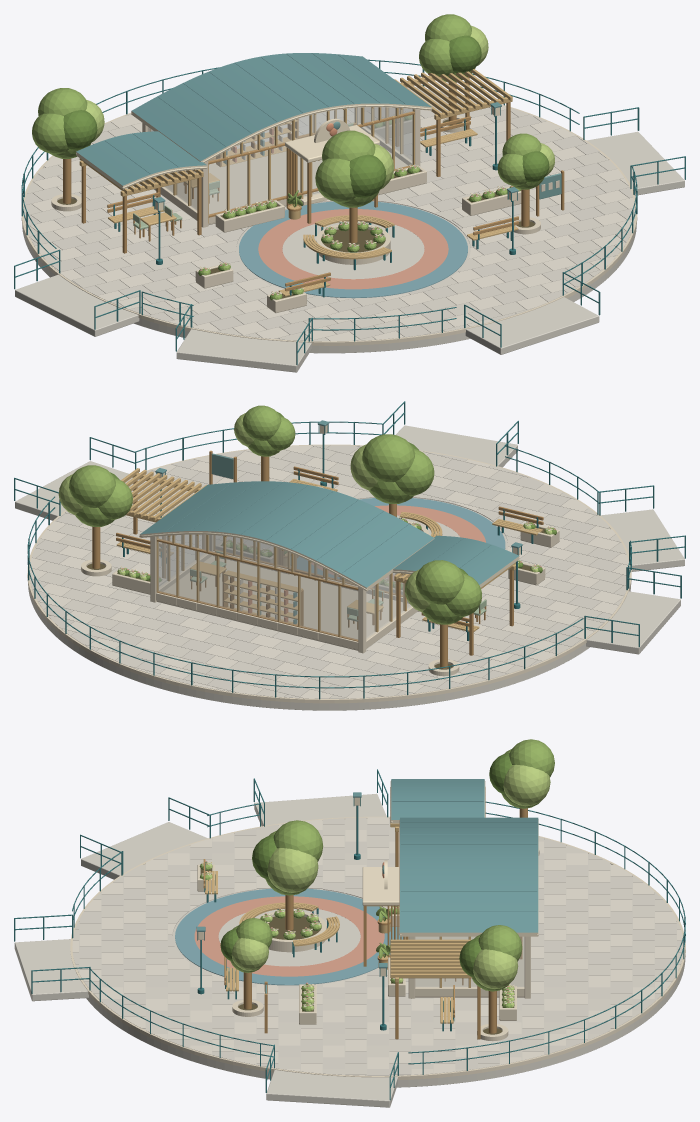
File: senior.glb
3 views of the same model, one above another, from view 1: azimuth 30°, elevation 25°; view 2: azimuth 150°, elevation 25°; view 3: azimuth 270°, elevation 25° (orthographic).
Visible parts, largest first — view 1: Site_Components__WarmLimestonePaver1, Site_Components__WarmLimestonePaver0, Site_Components__WarmLimestonePaver2, Site_Components__stone, CommunityLifeHall__roof, Landscape_Components__leaf, CommunityLifeHall__Clear warm architectural glazing, Site_Components__rail, Landscape_Components__cream, Landscape_Components__Muted blue court, Landscape_Components__Muted clay court, Landscape_Components__leafDark (+24 smaller); view 2: Site_Components__WarmLimestonePaver0, Site_Components__WarmLimestonePaver1, Site_Components__WarmLimestonePaver2, CommunityLifeHall__roof, Site_Components__stone, CommunityLifeHall__Clear warm architectural glazing, Landscape_Components__leaf, Site_Components__rail, CommunityLifeHall__floor, CommunityLifeHall__cream, Site_Components__cream, CommunityLifeHall__woodLight (+18 smaller); view 3: Site_Components__WarmLimestonePaver1, Site_Components__WarmLimestonePaver0, Site_Components__WarmLimestonePaver2, Site_Components__stone, CommunityLifeHall__roof, Landscape_Components__leafLight, Landscape_Components__leaf, Site_Components__rail, Landscape_Components__Muted clay court, Landscape_Components__Muted blue court, Site_Components__cream, WestRestGallery__roof (+16 smaller).
Part boxes in pixels (left/top/right/bottom): Site_Components__WarmLimestonePaver1: left=30, top=89, right=634, bottom=341; Site_Components__WarmLimestonePaver0: left=23, top=87, right=629, bottom=341; Site_Components__WarmLimestonePaver2: left=24, top=88, right=635, bottom=339; Site_Components__stone: left=15, top=131, right=684, bottom=372; CommunityLifeHall__roof: left=131, top=53, right=431, bottom=161; Landscape_Components__leaf: left=32, top=14, right=543, bottom=299; CommunityLifeHall__Clear warm architectural glazing: left=148, top=107, right=412, bottom=214; Site_Components__rail: left=14, top=59, right=685, bottom=365; Landscape_Components__cream: left=51, top=115, right=540, bottom=313; Landscape_Components__Muted blue court: left=239, top=201, right=467, bottom=298; Landscape_Components__Muted clay court: left=258, top=209, right=448, bottom=289; Landscape_Components__leafDark: left=63, top=35, right=549, bottom=300; Site_Components__WarmLimestonePaver0: left=31, top=445, right=626, bottom=698; Site_Components__WarmLimestonePaver1: left=29, top=445, right=629, bottom=698; Site_Components__WarmLimestonePaver2: left=30, top=445, right=626, bottom=698; CommunityLifeHall__roof: left=140, top=481, right=434, bottom=587; Site_Components__stone: left=15, top=425, right=684, bottom=710; CommunityLifeHall__Clear warm architectural glazing: left=157, top=534, right=410, bottom=640; Landscape_Components__leaf: left=69, top=405, right=555, bottom=624; Site_Components__rail: left=14, top=401, right=685, bottom=699; CommunityLifeHall__floor: left=163, top=556, right=409, bottom=639; CommunityLifeHall__cream: left=150, top=535, right=419, bottom=653; Site_Components__cream: left=27, top=444, right=631, bottom=703; CommunityLifeHall__woodLight: left=156, top=534, right=406, bottom=636; Site_Components__WarmLimestonePaver1: left=72, top=817, right=682, bottom=1075; Site_Components__WarmLimestonePaver0: left=73, top=818, right=683, bottom=1075; Site_Components__WarmLimestonePaver2: left=73, top=817, right=683, bottom=1075; Site_Components__stone: left=14, top=793, right=685, bottom=1107; CommunityLifeHall__roof: left=400, top=817, right=538, bottom=932; Landscape_Components__leafLight: left=207, top=764, right=550, bottom=1010; Landscape_Components__leaf: left=199, top=739, right=554, bottom=1011; Site_Components__rail: left=14, top=769, right=685, bottom=1100; Landscape_Components__Muted clay court: left=194, top=896, right=384, bottom=976; Landscape_Components__Muted blue court: left=175, top=888, right=403, bottom=985; Site_Components__cream: left=70, top=816, right=685, bottom=1079; WestRestGallery__roof: left=391, top=779, right=484, bottom=819.
Size of the model in its own units: 27.98 by 5.3 by 25.81.
